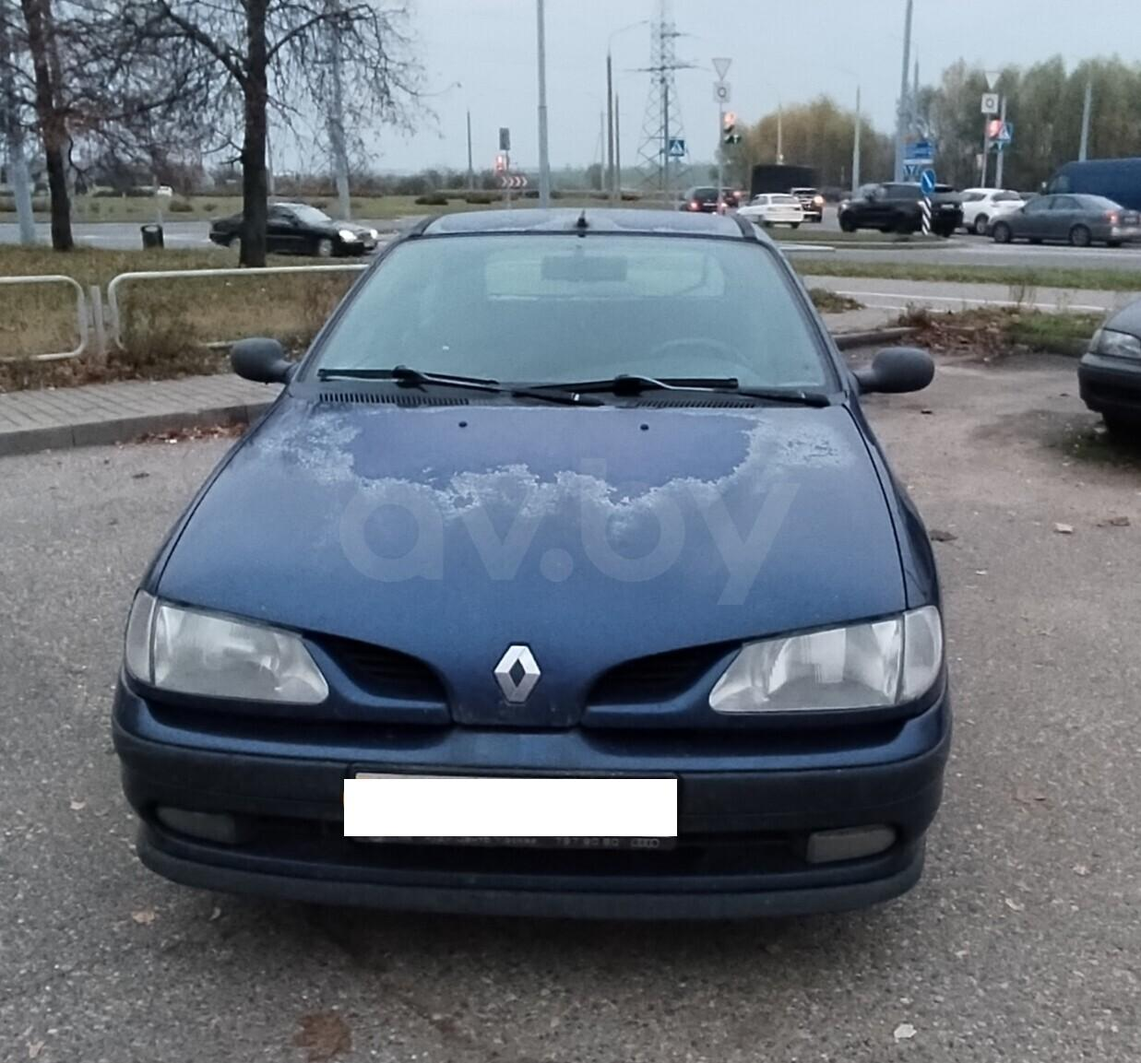Megane_1995-1999: (98, 199, 962, 923)
